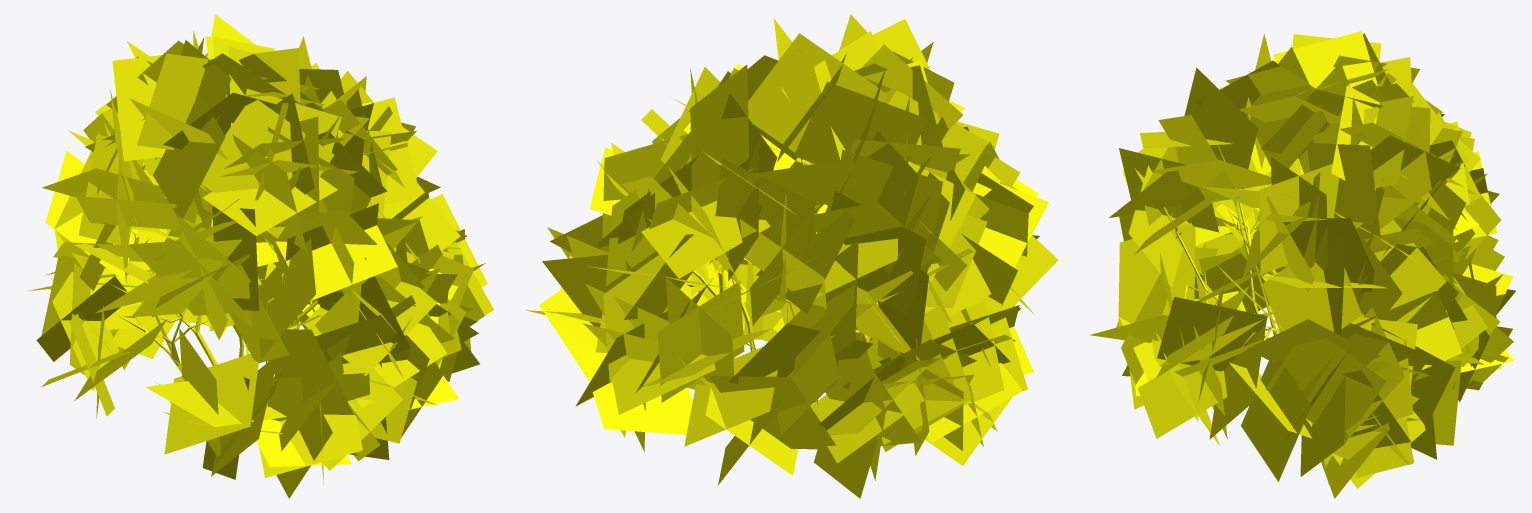
File: bush_forest_b.glb
3 renders of one model, left to right at view 1: azimuth 30°, elevation 25°; view 2: azimuth 150°, elevation 25°; view 3: azimuth 270°, elevation 25°, orthographic. The views are drawn at different scales.
Visible parts, largest first — view 1: Bushe_03_LOD0, SM_Bushes_03_LOD0; view 2: Bushe_03_LOD0, SM_Bushes_03_LOD0; view 3: Bushe_03_LOD0, SM_Bushes_03_LOD0.
Part boxes in pixels (x1,y1,x2,y2): Bushe_03_LOD0: (27, 14, 493, 498); SM_Bushes_03_LOD0: (110, 185, 322, 402); Bushe_03_LOD0: (526, 14, 1058, 498); SM_Bushes_03_LOD0: (604, 137, 872, 405); Bushe_03_LOD0: (1089, 31, 1515, 498); SM_Bushes_03_LOD0: (1163, 135, 1307, 346).
Bounding box in the file's own units: 2.47 × 2.21 × 2.21.
